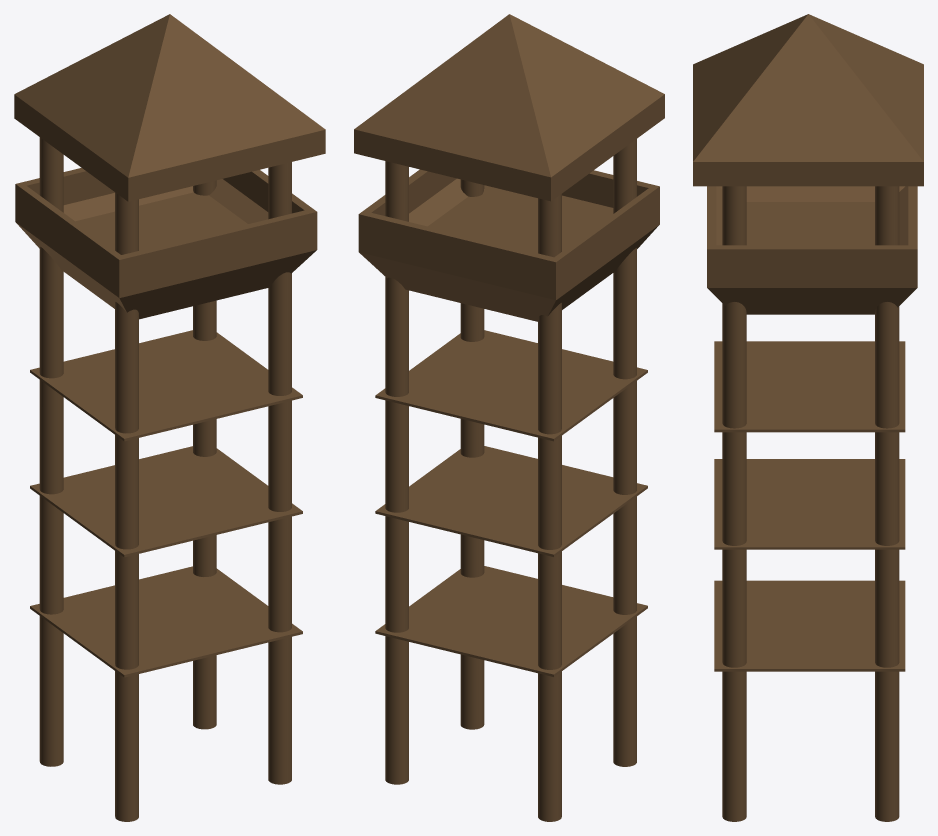
File: Tower.fbx
3 renders of one model, left to right at view 1: azimuth 30°, elevation 25°; view 2: azimuth 150°, elevation 25°; view 3: azimuth 270°, elevation 25°, orthographic.
Visible parts, largest first — view 1: pCube3; view 2: pCube3; view 3: pCube3.
Boxes of the visible parts, x1,y1,x2,y2 form: pCube3: (14, 14, 325, 821); pCube3: (354, 14, 664, 821); pCube3: (693, 14, 923, 821).
Size of the model in its own units: 5.21 by 18.89 by 5.16.
